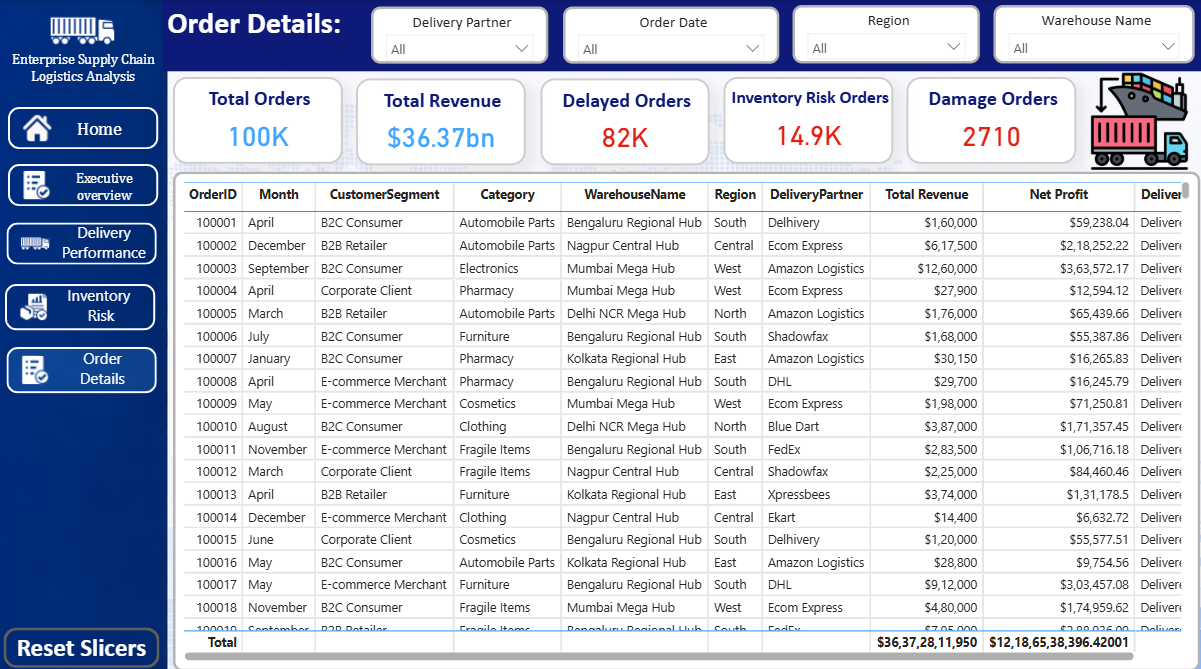

The page's visual inventory and layout, read from the dashboard file:
{"tool":"powerbi","page":{"name":"Order Detail","canvas":[1280,720],"ordinal":4},"visuals":[{"type":"group","id":"g1","title":"SideBar","box":[0,0,186.8,427.5],"z":0},{"type":"image","box":[0,0,183,67.4],"z":0,"group":"g1"},{"type":"actionButton","box":[12.7,114.4,159.3,44.6],"z":0,"group":"g3"},{"type":"actionButton","box":[12.7,175.1,159.3,44.6],"z":0,"group":"g2"},{"type":"actionButton","box":[11.8,237.1,159.3,44.6],"z":0,"group":"g4"},{"type":"actionButton","box":[10,301,159.3,49],"z":0,"group":"g5"},{"type":"actionButton","box":[11.1,368.3,159.3,49],"z":0,"group":"g7"},{"type":"textbox","box":[176.1,0,1103.9,76.3],"z":1000},{"type":"textbox","box":[0,50.1,184.9,52],"z":1000,"group":"g1"},{"type":"card","title":"Damage Orders","fields":{"Values":["Measure.Damaged Orders"]},"box":[966.2,82.7,179.7,92.3],"z":1000,"group":"g6"},{"type":"textbox","box":[70.2,120.8,78.8,33.4],"z":1000,"group":"g3"},{"type":"textbox","box":[63.6,175.1,101.8,55.7],"z":1000,"group":"g2"},{"type":"textbox","box":[43.6,231.3,143.2,57.8],"z":1000,"group":"g4"},{"type":"textbox","box":[39.8,296.7,143.2,63.6],"z":1000,"group":"g5"},{"type":"textbox","box":[40.9,364,143.2,63.6],"z":1000,"group":"g7"},{"type":"slicer","title":"Order Date","fields":{"Values":["Fact_Orders.OrderDate.Variation.Date Hierarchy.Year","Fact_Orders.OrderDate.Variation.Date Hierarchy.Quarter","Fact_Orders.OrderDate.Variation.Date Hierarchy.Month","Fact_Orders.OrderDate.Variation.Date Hierarchy.Day"]},"box":[601.3,8,229,60.4],"z":2000},{"type":"group","id":"g2","title":"Group 1","box":[12.7,175.1,159.3,55.7],"z":2000,"group":"g1"},{"type":"slicer","title":"Region","fields":{"Values":["Fact_Orders.Region"]},"box":[844.6,6.4,198.8,62],"z":3000},{"type":"card","title":"Delayed Orders","fields":{"Values":["Measure.Delayed Orders"]},"box":[577.7,83.6,179,92],"z":3000,"group":"g6"},{"type":"group","id":"g3","title":"Group 2","box":[12.7,114.4,159.3,44.6],"z":3000,"group":"g1"},{"type":"slicer","title":"Warehouse Name","fields":{"Values":["Dim_Warehouse.WarehouseName"]},"box":[1057.8,6.4,213.1,62],"z":4000},{"type":"card","title":"Total Revenue","fields":{"Values":["Measure.Total Revenue"]},"box":[383,83.7,179.7,92.3],"z":4000,"group":"g6"},{"type":"group","id":"g4","title":"Group 3","box":[11.8,231.3,175,57.8],"z":4000,"group":"g1"},{"type":"slicer","title":"Delivery Partner","fields":{"Values":["Dim_Partner.DeliveryPartner"]},"box":[397.7,8,187.7,60.4],"z":5000},{"type":"card","title":"Inventory Risk Orders","fields":{"Values":["Measure.At Risk Inventory"]},"box":[771.6,82.7,179.7,92.3],"z":5000,"group":"g6"},{"type":"group","id":"g5","title":"Group 4","box":[10,296.7,173,63.6],"z":5000,"group":"g1"},{"type":"group","id":"g6","title":"Group 6","box":[188.4,82.7,957.5,93.8],"z":6000},{"type":"group","id":"g7","title":"Group 5","box":[11.1,364,173,63.6],"z":6000,"group":"g1"},{"type":"card","title":"Total Orders","fields":{"Values":["Measure.Total Orders"]},"box":[188.4,82.7,179.7,92.3],"z":7000,"group":"g6"},{"type":"tableEx","fields":{"Values":["Fact_Orders.OrderID","Fact_Orders.OrderDate.Variation.Date Hierarchy.Month","Dim_Customer.CustomerSegment","Dim_Product.Category","Dim_Warehouse.WarehouseName","Fact_Orders.Region","Dim_Partner.DeliveryPartner","Measure.Total Revenue","Measure.Net Profit","Fact_Orders.DeliveryStatus"]},"box":[187.7,182.9,1089.6,529.7],"z":7000},{"type":"actionButton","box":[8,666.5,165.4,42.9],"z":7001},{"type":"image","box":[1145.2,76.3,135.2,106.6],"z":7002}]}

Visuals, with their boxes in screenshot pixels (x1, y1, x2, y2), scaled from the page's 1280x720 canvas onto the 1201x669 screenshot:
"SideBar" group: 0 0 175 397
image: 0 0 172 63
actionButton: 12 106 161 148
actionButton: 12 163 161 204
actionButton: 11 220 161 262
actionButton: 9 280 159 325
actionButton: 10 342 160 388
textbox: 165 0 1200 71
textbox: 0 47 173 95
"Damage Orders" card: 907 77 1075 163
textbox: 66 112 140 143
textbox: 60 163 155 214
textbox: 41 215 175 269
textbox: 37 276 172 335
textbox: 38 338 173 397
"Order Date" slicer: 564 7 779 64
"Group 1" group: 12 163 161 214
"Region" slicer: 792 6 979 64
"Delayed Orders" card: 542 78 710 163
"Group 2" group: 12 106 161 148
"Warehouse Name" slicer: 993 6 1192 64
"Total Revenue" card: 359 78 528 164
"Group 3" group: 11 215 175 269
"Delivery Partner" slicer: 373 7 549 64
"Inventory Risk Orders" card: 724 77 893 163
"Group 4" group: 9 276 172 335
"Group 6" group: 177 77 1075 164
"Group 5" group: 10 338 173 397
"Total Orders" card: 177 77 345 163
tableEx - Fact_Orders.OrderID x Fact_Orders.OrderDate.Variation.Date Hierarchy.Month: 176 170 1198 662
actionButton: 8 619 163 659
image: 1075 71 1200 170
